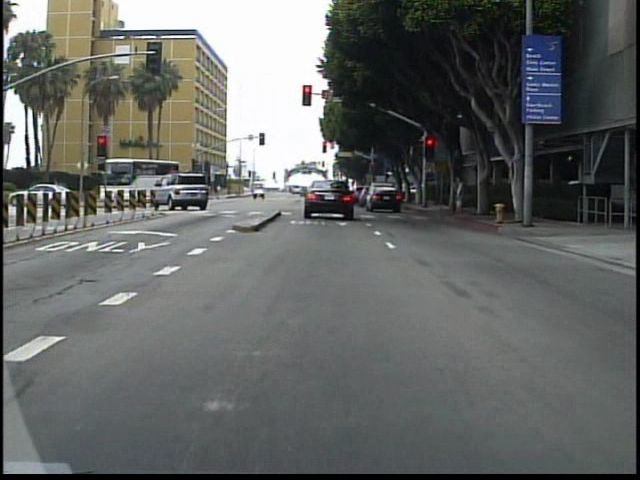person: (453, 169, 471, 215)
